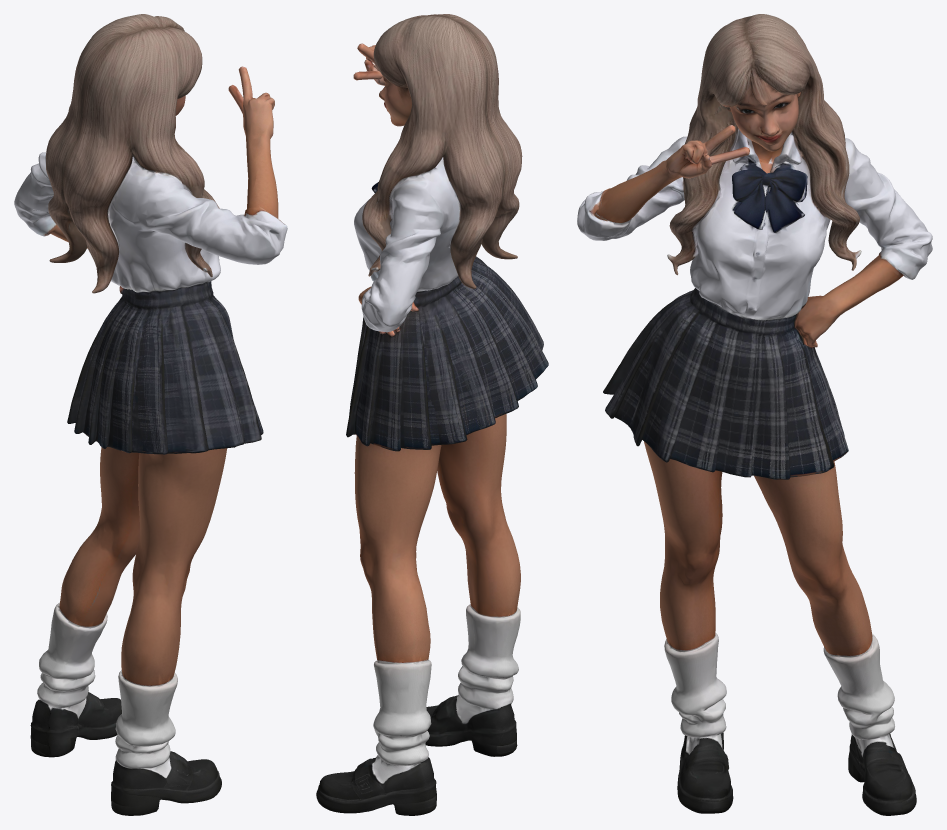
The model's file is japanese_gyaru_hd.glb.
The picture shows the model from 3 angles, left to right: view 1: azimuth 30°, elevation 25°; view 2: azimuth 150°, elevation 25°; view 3: azimuth 270°, elevation 25°; orthographic projection. The views are drawn at different scales.
Visible parts, largest first — view 1: tripo_node_25c0b80a-6a14-46d8-bebe-dba8c12c86a2; view 2: tripo_node_25c0b80a-6a14-46d8-bebe-dba8c12c86a2; view 3: tripo_node_25c0b80a-6a14-46d8-bebe-dba8c12c86a2.
Part boxes in pixels (x1,y1,x2,y2): tripo_node_25c0b80a-6a14-46d8-bebe-dba8c12c86a2: [14, 14, 287, 815]; tripo_node_25c0b80a-6a14-46d8-bebe-dba8c12c86a2: [316, 14, 548, 815]; tripo_node_25c0b80a-6a14-46d8-bebe-dba8c12c86a2: [577, 14, 932, 815].
Size of the model in its own units: 0.2407 by 1 by 0.4175.
Materials: 1 (1 with a texture image).
